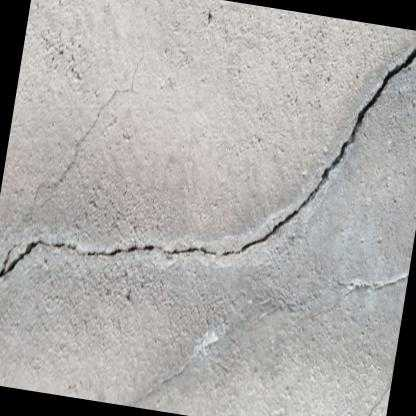crack: (0, 45, 416, 279)
